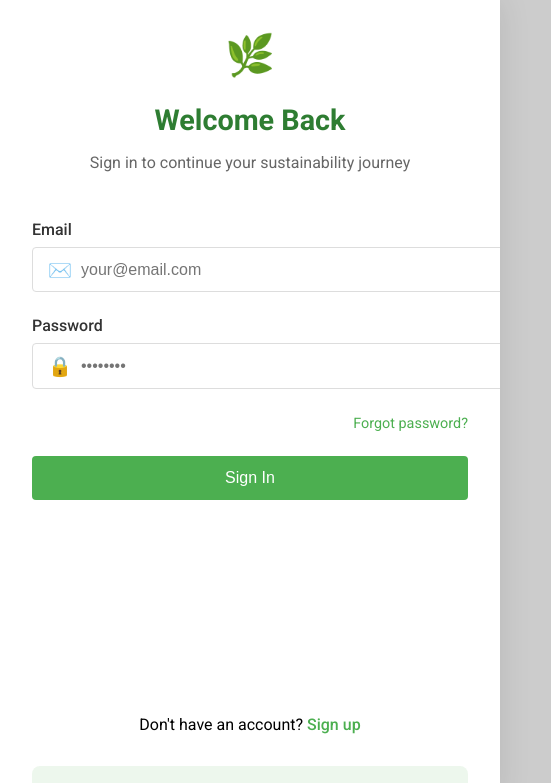
Login Component › shows error message on login failure
In the field labelled "Email": coordinates (283, 270) [32, 247, 534, 292], type "fail@example.com"
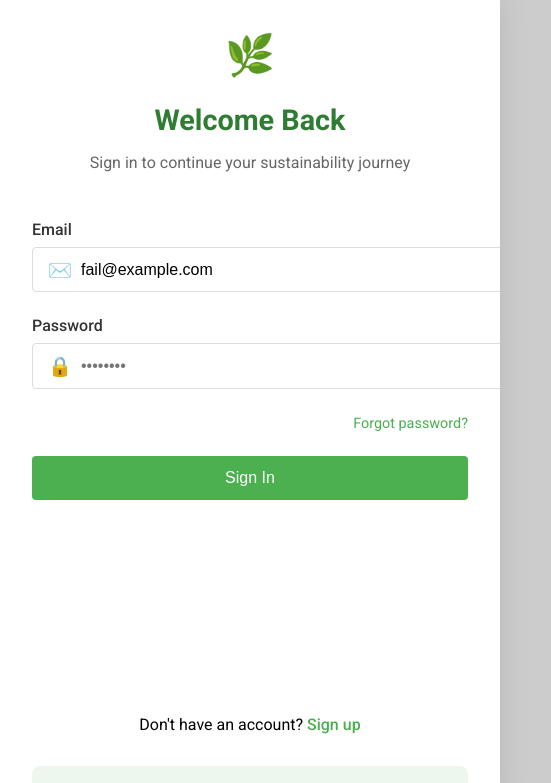
In the password field labelled "Password": coordinates (283, 366) [32, 344, 534, 389], type "wrongpass"
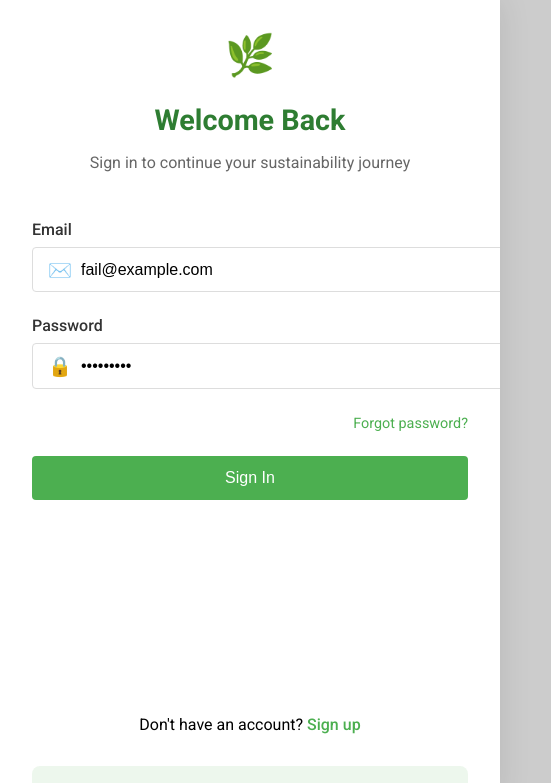
Click the button "Sign In": coordinates (250, 478) [32, 456, 468, 500]
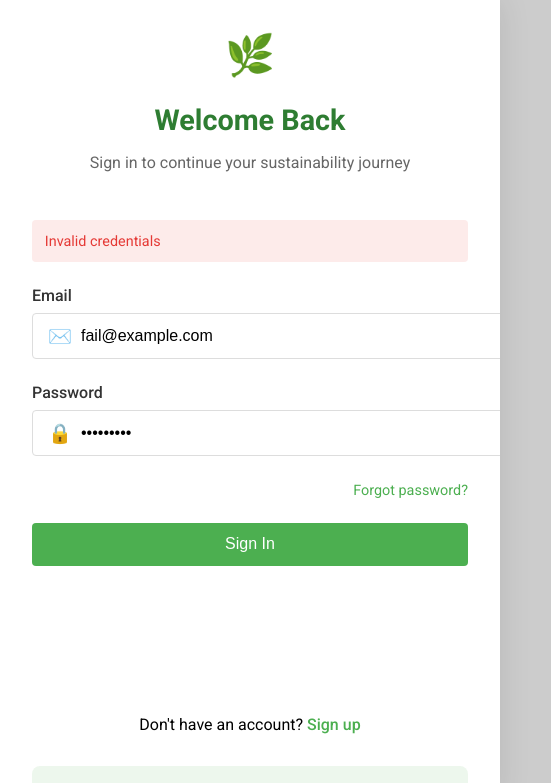
Check: the text "Invalid credentials" is shown, box [32, 220, 468, 262]
